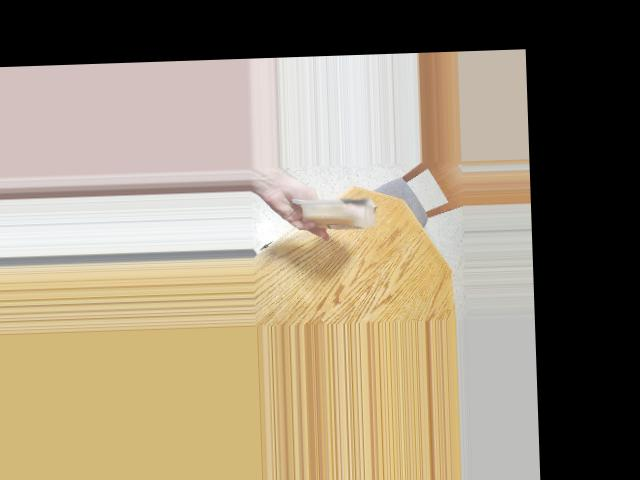cheese: (296, 181, 371, 233)
